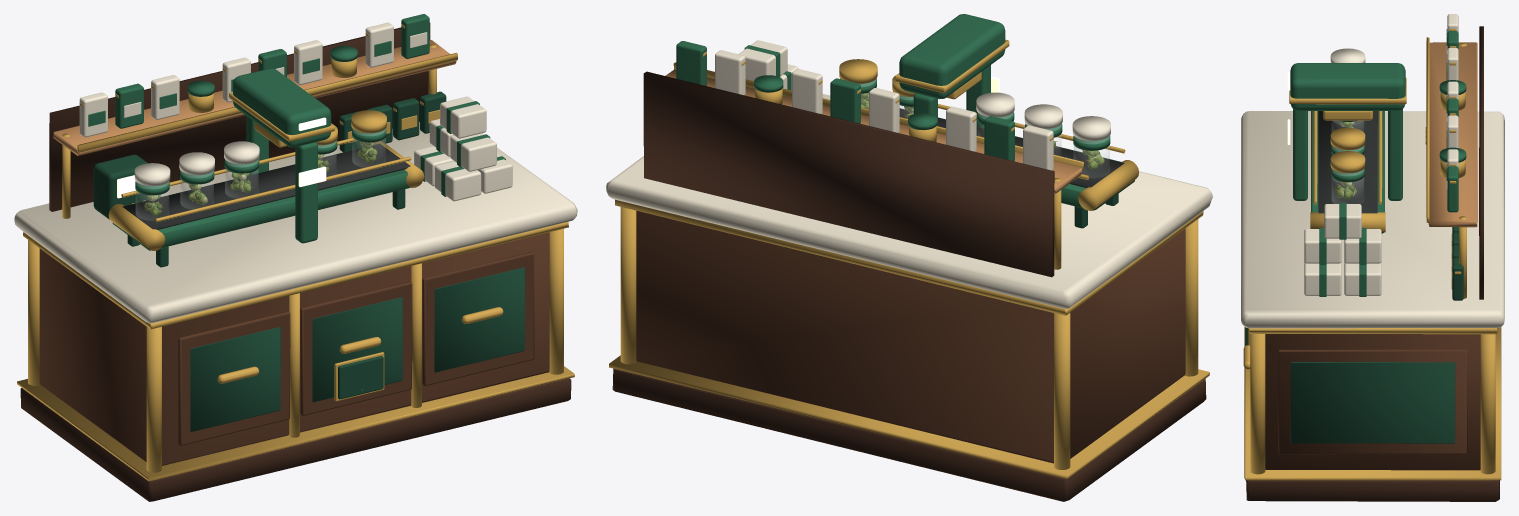
File: pack_bench_tier5.glb
The picture shows the model from 3 angles, left to right: view 1: azimuth 30°, elevation 25°; view 2: azimuth 150°, elevation 25°; view 3: azimuth 270°, elevation 25°; orthographic projection. The views are drawn at different scales.
Visible parts, largest first — view 1: Top, Body, Plinth, ShelfBack, DrawerInset0, DrawerInset2, PlinthBrass, ConvBelt, DrawerInset1, Drawer2, Drawer0, Drawer1 (+40 smaller); view 2: Body, ShelfBack, Top, Plinth, PlinthBrass, SealerHead, TopBand, Column11, Column-11, Column-1-1, Shelf, Roller-0.77 (+17 smaller); view 3: Top, EndInset, Body, EndPanel, Shelf, Plinth, SealerHead, PlinthBrass, ConvBelt, Column1-1, Column11, TopBand (+25 smaller).
Part boxes in pixels (x1,y1,x2,y2): Top: [14, 122, 577, 323]; Body: [39, 232, 549, 465]; Plinth: [20, 378, 571, 501]; ShelfBack: [49, 22, 430, 211]; DrawerInset0: [190, 327, 280, 431]; DrawerInset2: [434, 267, 524, 372]; PlinthBrass: [17, 366, 574, 481]; ConvBelt: [122, 143, 410, 229]; DrawerInset1: [312, 297, 402, 402]; Drawer2: [422, 252, 534, 385]; Drawer0: [178, 311, 290, 445]; Drawer1: [300, 281, 412, 415]; Body: [636, 210, 1185, 463]; ShelfBack: [643, 71, 1054, 277]; Top: [606, 94, 1212, 308]; Plinth: [612, 368, 1206, 501]; PlinthBrass: [609, 355, 1209, 479]; SealerHead: [899, 14, 1005, 99]; TopBand: [615, 199, 1203, 315]; Column11: [620, 207, 636, 364]; Column-11: [1054, 313, 1070, 469]; Column-1-1: [1185, 219, 1198, 376]; Shelf: [665, 69, 1081, 193]; Roller-0.77: [1078, 160, 1138, 210]; Top: [1241, 111, 1504, 328]; EndInset: [1290, 362, 1455, 443]; Body: [1265, 334, 1480, 470]; EndPanel: [1278, 349, 1467, 454]; Shelf: [1428, 42, 1477, 227]; Plinth: [1246, 480, 1499, 501]; SealerHead: [1290, 63, 1405, 110]; PlinthBrass: [1244, 327, 1501, 480]; ConvBelt: [1318, 111, 1377, 213]; Column1-1: [1250, 334, 1265, 474]; Column11: [1480, 334, 1495, 474]; TopBand: [1248, 328, 1497, 334].
Size of the model in its own units: 1.93 by 1.41 by 1.05.
